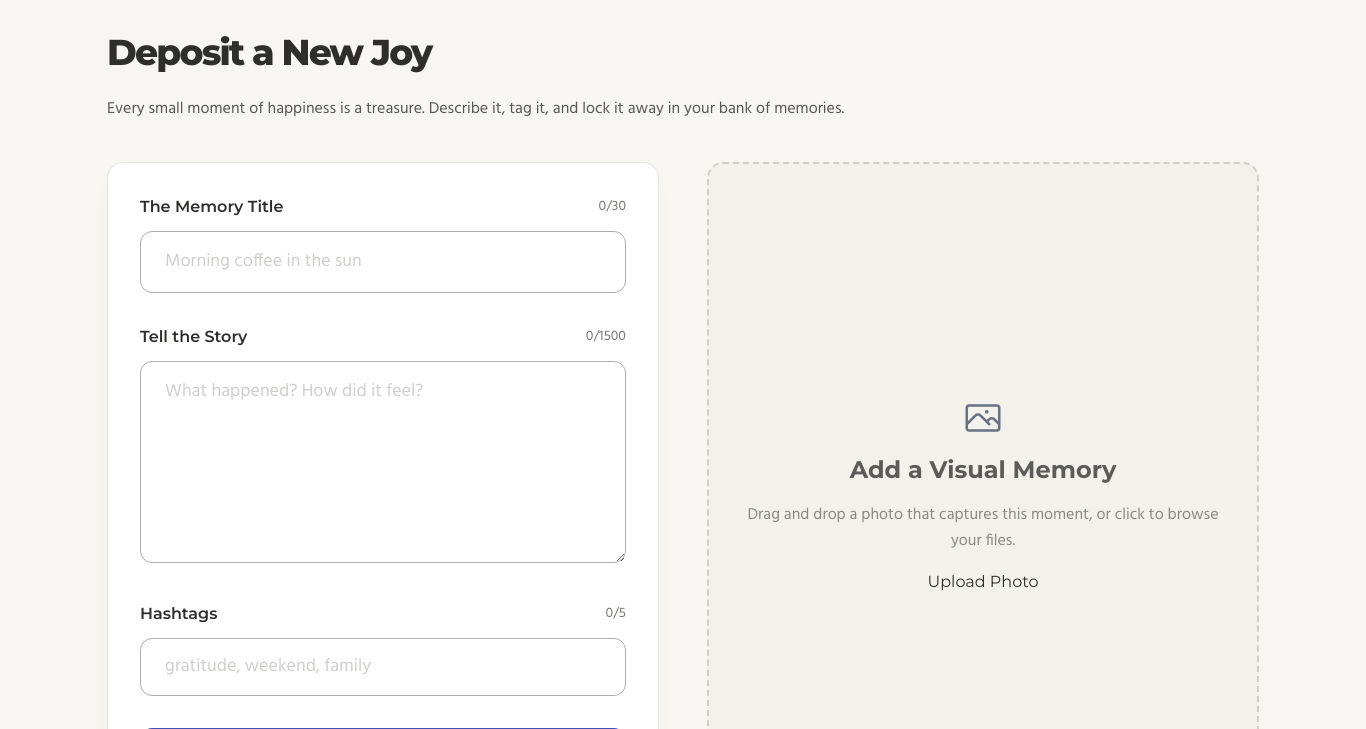
Test: CreateMemoryPanel › should display alert if create memory request is failed
The image size is (1366, 729).
Type "Ginger day" into the field labelled "The Memory Title" at coordinates (383, 262), box top-left (140, 231), bottom-right (626, 293)
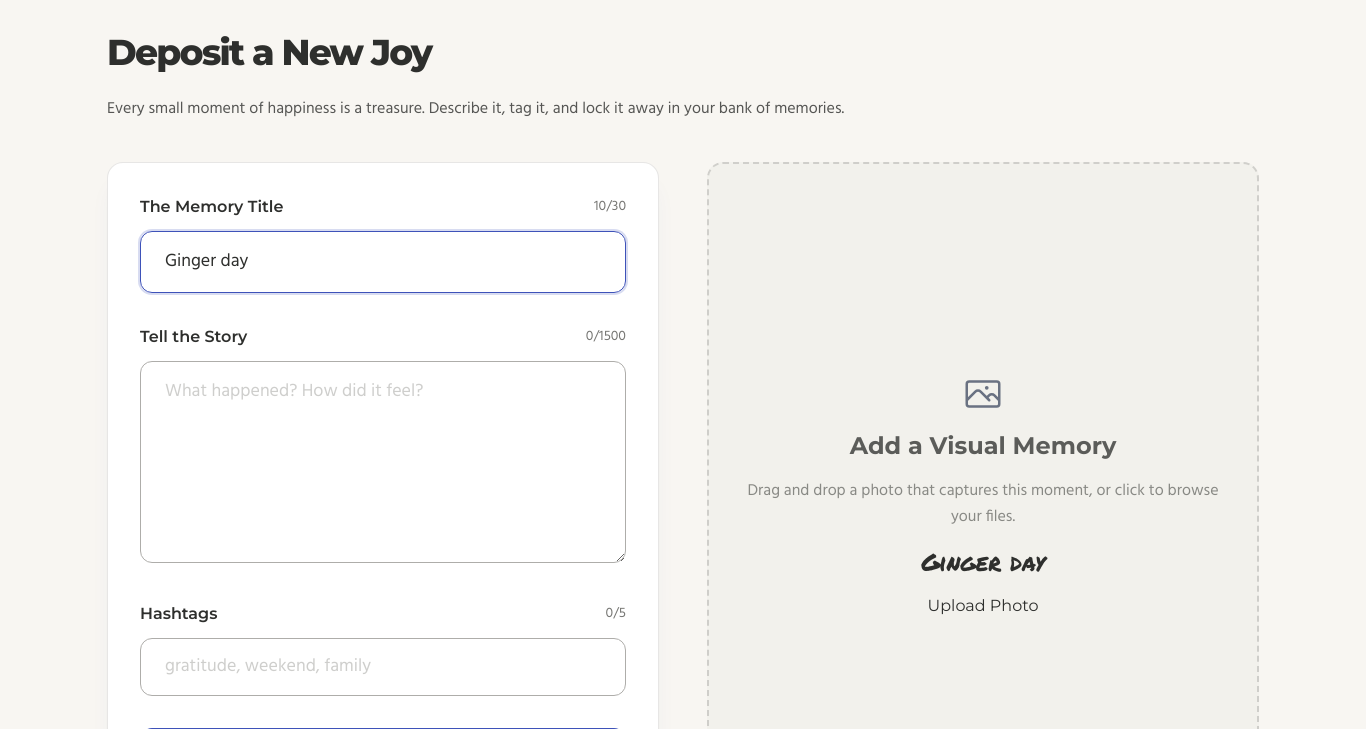
Type "I met Ginger today!" into the text box labelled "Tell the Story" at coordinates (383, 462), box top-left (140, 361), bottom-right (626, 563)
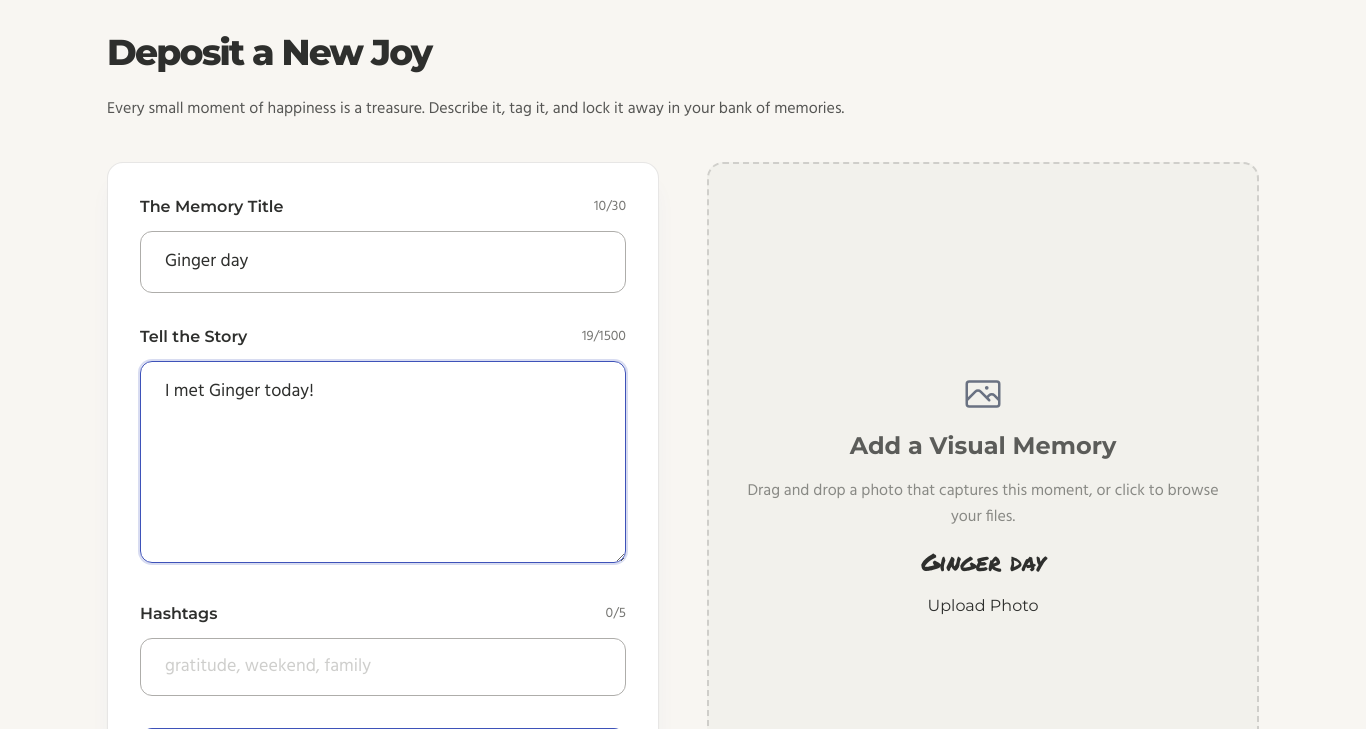
Type "ginger" into the field labelled "Hashtags" at coordinates (383, 667), box top-left (165, 653), bottom-right (601, 681)
Then press Enter
(page scrolled)
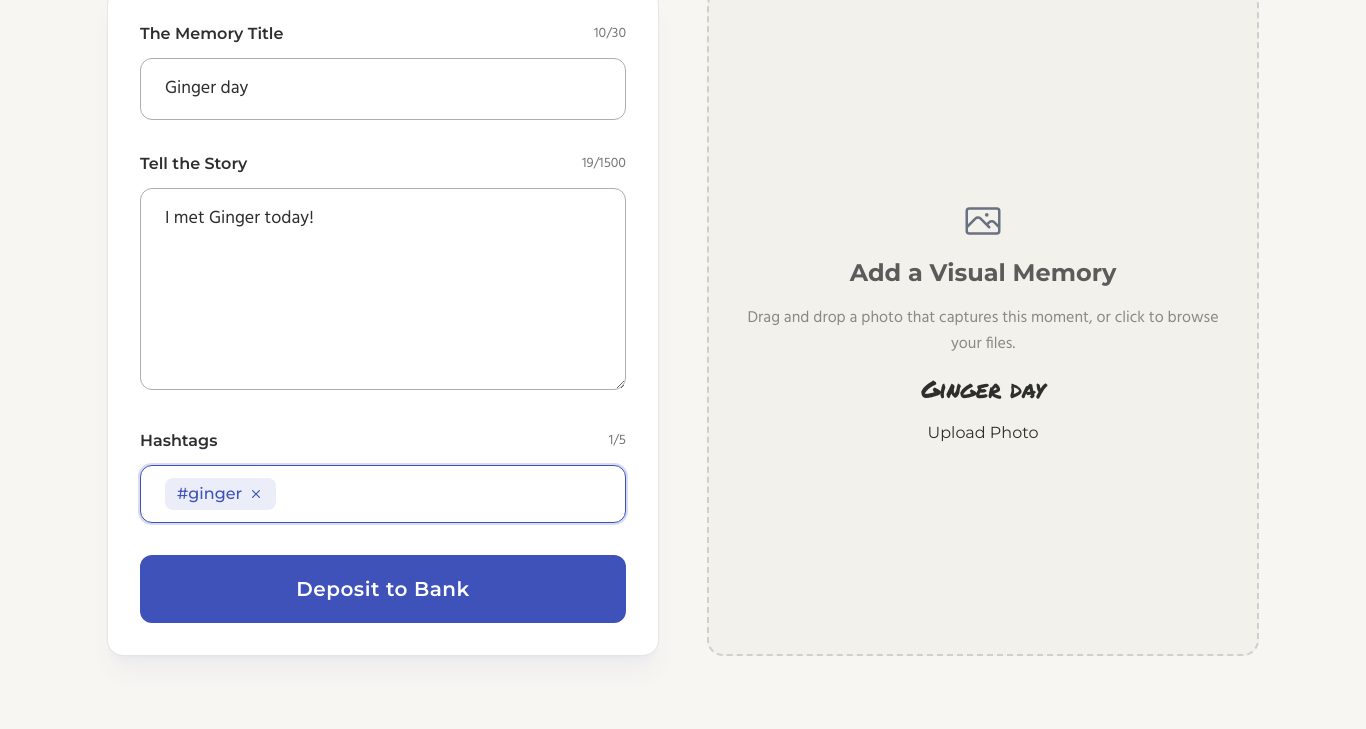
Click the button "Deposit to Bank" at coordinates (383, 589), box top-left (140, 555), bottom-right (626, 623)
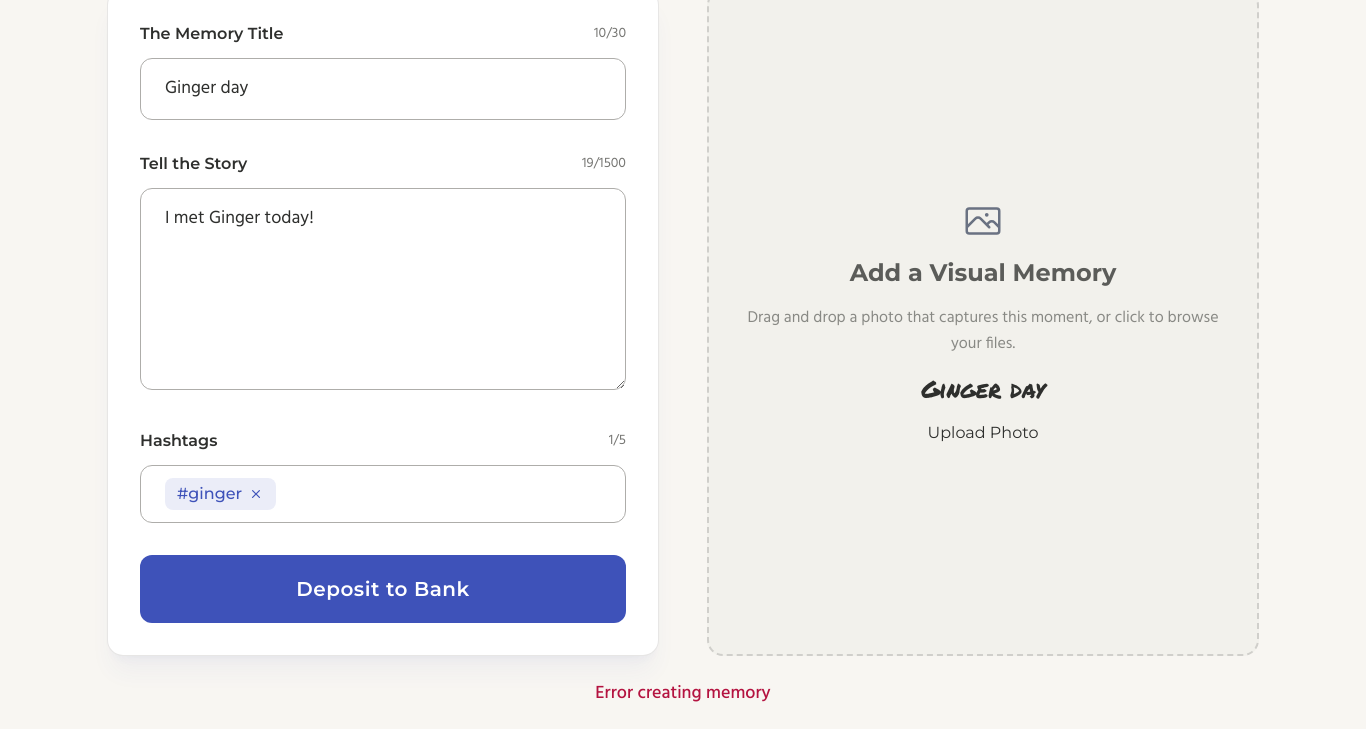
Expected: the field labelled "Hashtags" is empty, top-left (284, 480), bottom-right (601, 508)
Expected: the text "#ginger" is shown, top-left (165, 478), bottom-right (276, 510)
Expected: the text "Error creating memory" is shown, top-left (595, 679), bottom-right (771, 708)
